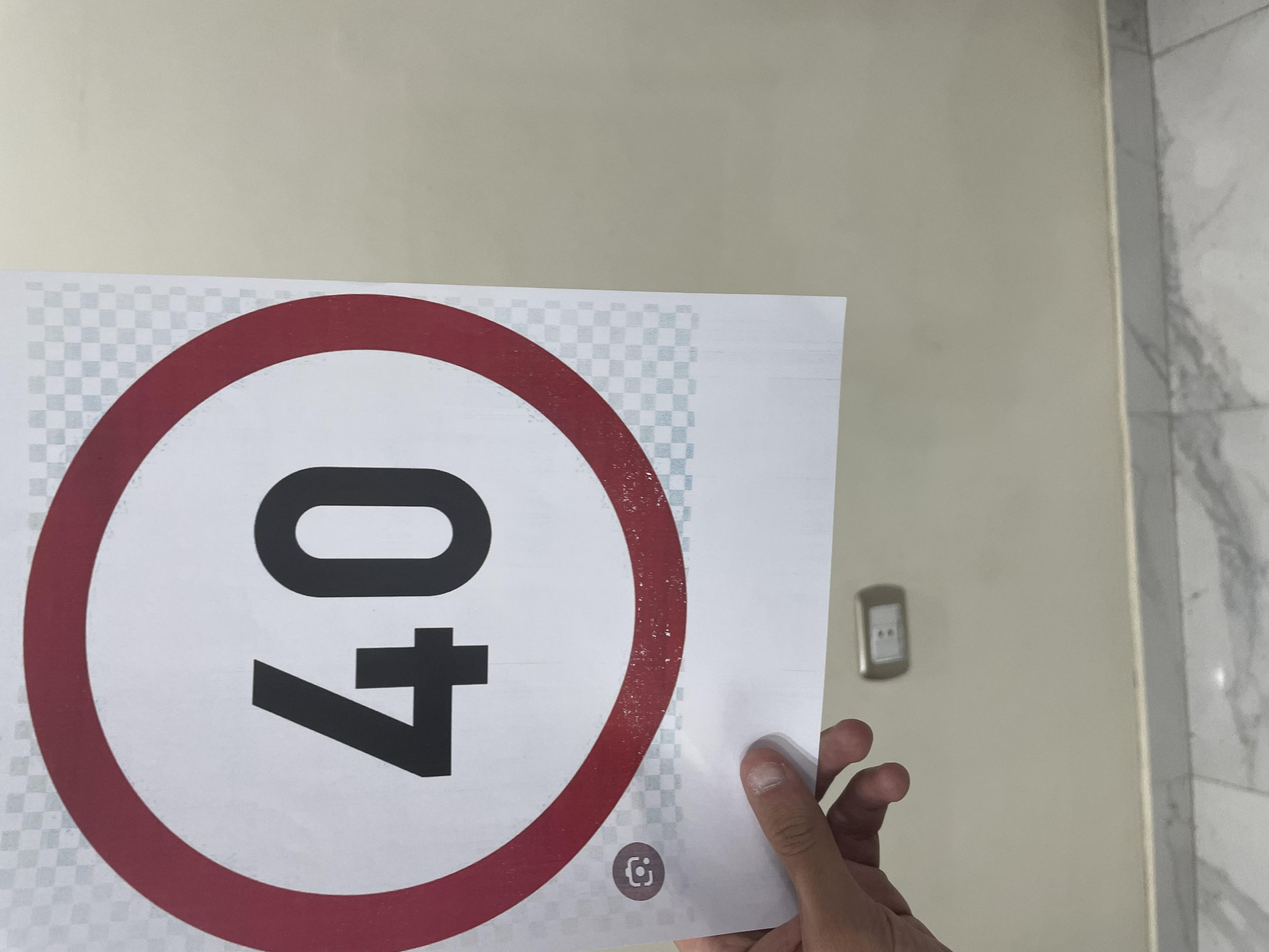40-Speed: (9, 15, 902, 524)
